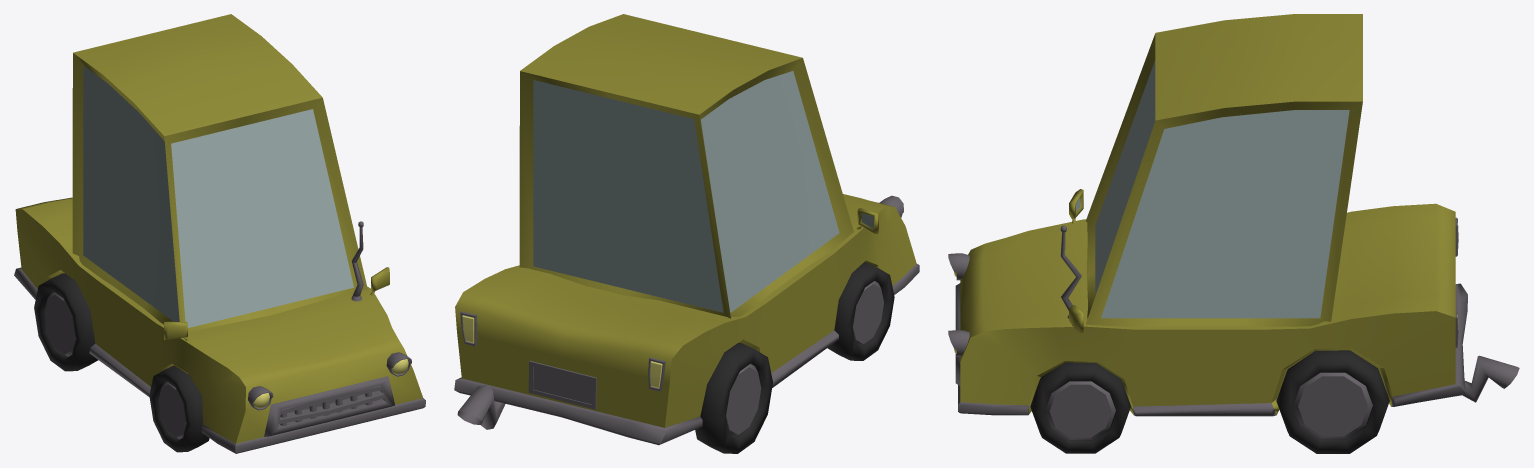
The model's file is Car_Still_Yellow.glb.
The picture shows the model from 3 angles, left to right: view 1: azimuth 30°, elevation 25°; view 2: azimuth 150°, elevation 25°; view 3: azimuth 270°, elevation 25°; orthographic projection. The views are drawn at different scales.
Parts seen in each view (by area): view 1: Car_A_Top, Car_A_Body, Car_A_Wheel_BR, Car_A_Wheel_FR, Grill_Connector_B, Car_A_Headlight_R, Car_A_Headlight_L, Grill_Connector_T, Car_A_Antennae_Base, Grill, Car_A_Mirror_R; view 2: Car_A_Top, Car_A_Body, Car_A_Wheel_BR, Car_A_Wheel_FR, Car_A_LiscencePlate, Car_A_Exhaust, Car_A_BackLight_L, Car_A_BackLight_R; view 3: Car_A_Top, Car_A_Body, Car_A_Wheel_BL, Car_A_Wheel_FL, Car_A_Exhaust.
Part boxes in pixels (<box>): Car_A_Top: <box>72,14,367,332</box>; Car_A_Body: <box>14,197,425,453</box>; Car_A_Wheel_BR: <box>34,273,98,371</box>; Car_A_Wheel_FR: <box>149,365,209,452</box>; Grill_Connector_B: <box>278,390,384,424</box>; Car_A_Headlight_R: <box>248,386,273,410</box>; Car_A_Headlight_L: <box>386,352,411,376</box>; Grill_Connector_T: <box>281,385,381,414</box>; Car_A_Antennae_Base: <box>351,227,363,301</box>; Grill: <box>280,392,372,425</box>; Car_A_Mirror_R: <box>164,321,187,339</box>; Car_A_Top: <box>519,14,853,318</box>; Car_A_Body: <box>454,194,919,445</box>; Car_A_Wheel_BR: <box>695,343,772,453</box>; Car_A_Wheel_FR: <box>827,262,894,360</box>; Car_A_LiscencePlate: <box>528,360,596,409</box>; Car_A_Exhaust: <box>457,385,505,429</box>; Car_A_BackLight_L: <box>460,311,477,346</box>; Car_A_BackLight_R: <box>648,357,665,391</box>; Car_A_Top: <box>1086,14,1362,327</box>; Car_A_Body: <box>955,203,1467,416</box>; Car_A_Wheel_BL: <box>1276,350,1389,453</box>; Car_A_Wheel_FL: <box>1030,362,1130,453</box>; Car_A_Exhaust: <box>1462,355,1519,402</box>.
Bounding box in the file's own units: 0.1264 × 0.1625 × 0.2448.
